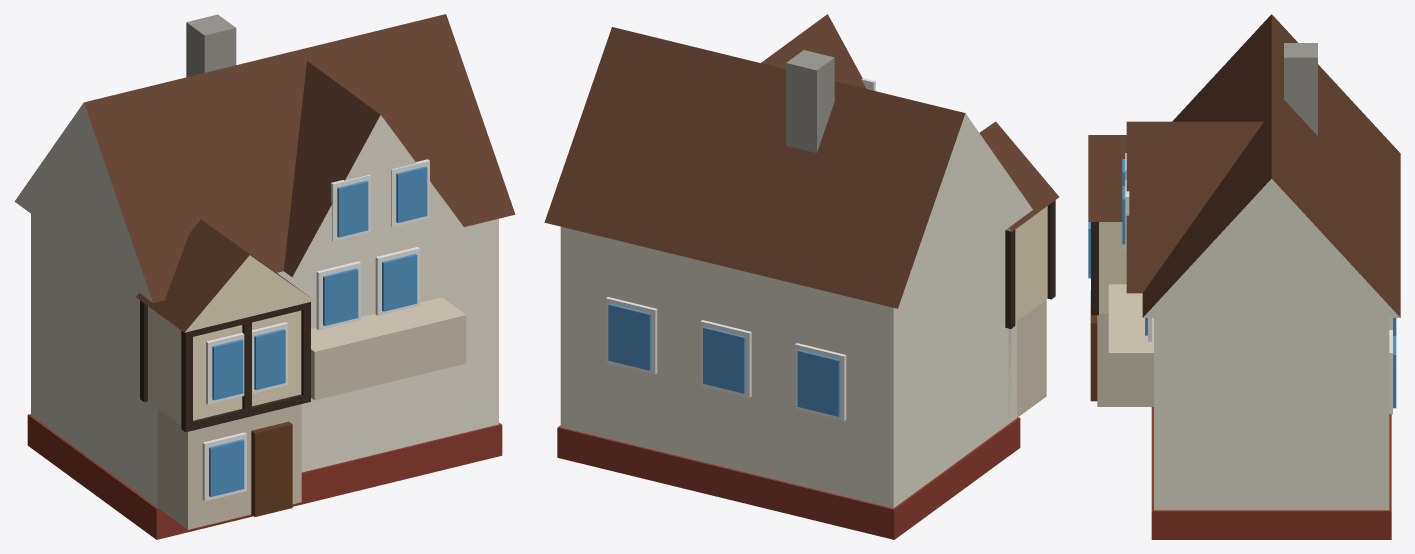
File: 48_amalienau_villa_2.obj
3 views of the same model, side by side, from view 1: azimuth 30°, elevation 25°; view 2: azimuth 150°, elevation 25°; view 3: azimuth 270°, elevation 25° (orthographic). The views are drawn at different scales.
Visible parts, largest first — view 1: 48_amalienau_villa_2; view 2: 48_amalienau_villa_2; view 3: 48_amalienau_villa_2.
Part boxes in pixels (x1,y1,x2,y2): 48_amalienau_villa_2: (14,14,515,539); 48_amalienau_villa_2: (544,14,1059,539); 48_amalienau_villa_2: (1088,14,1400,539).
Bounding box in the file's own units: 1.72 × 1.92 × 1.38.
